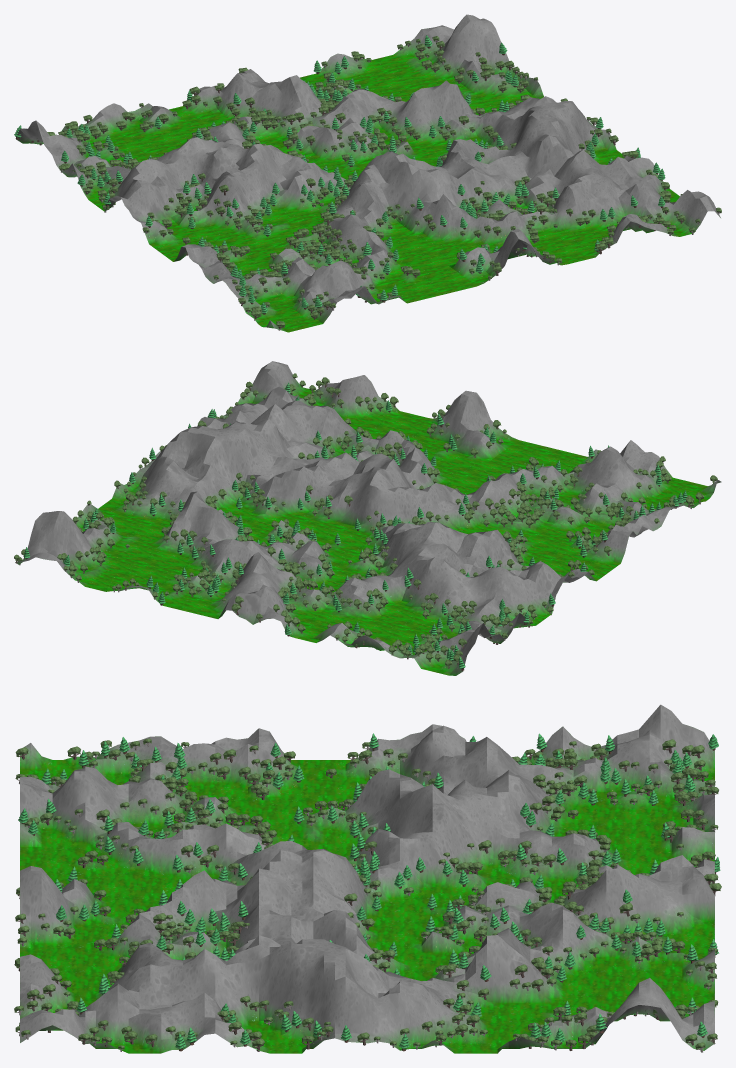
The model's file is geomountains.gltf.
3 renders of one model, top to bottom at view 1: azimuth 30°, elevation 25°; view 2: azimuth 150°, elevation 25°; view 3: azimuth 270°, elevation 25°, orthographic. The views are drawn at different scales.
Parts seen in each view (by area): view 1: Mountains-col; view 2: Mountains-col; view 3: Mountains-col.
Boxes of the visible parts, bbox=[...] form: Mountains-col: bbox=[16, 14, 720, 332]; Mountains-col: bbox=[15, 361, 721, 675]; Mountains-col: bbox=[20, 704, 714, 1053].
Bounding box in the file's own units: 40.59 × 4.17 × 40.75.
6 materials, 6 textured.
